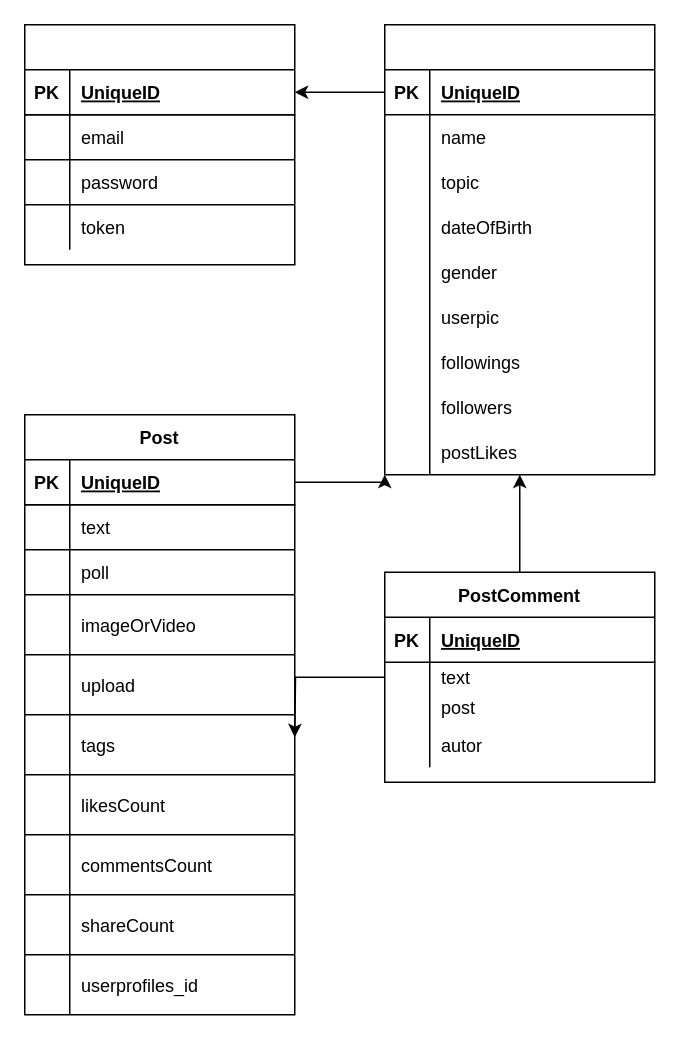
Image size: 680x1040. Some labels were removed from this diagram. The shapes that lost their labels are listed below. From the top down, each one's box as (x1, y1, x2, y2) in pixels, then its label:
(23, 23, 295, 265): User
(383, 23, 655, 475): UserProfile
